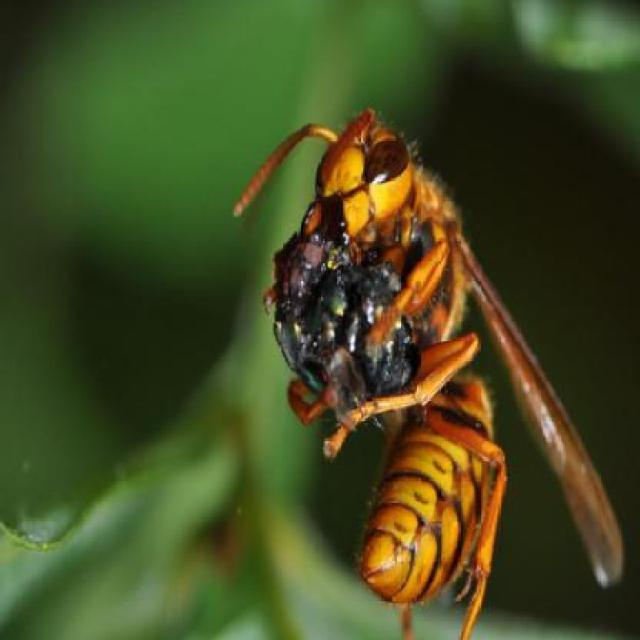Wasp: (219, 96, 621, 618)
